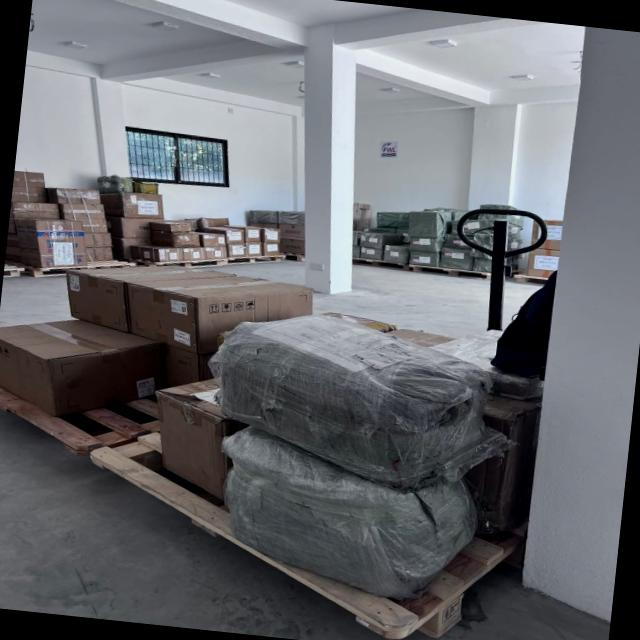carton_box: (57, 251, 326, 360), (0, 310, 173, 424)
